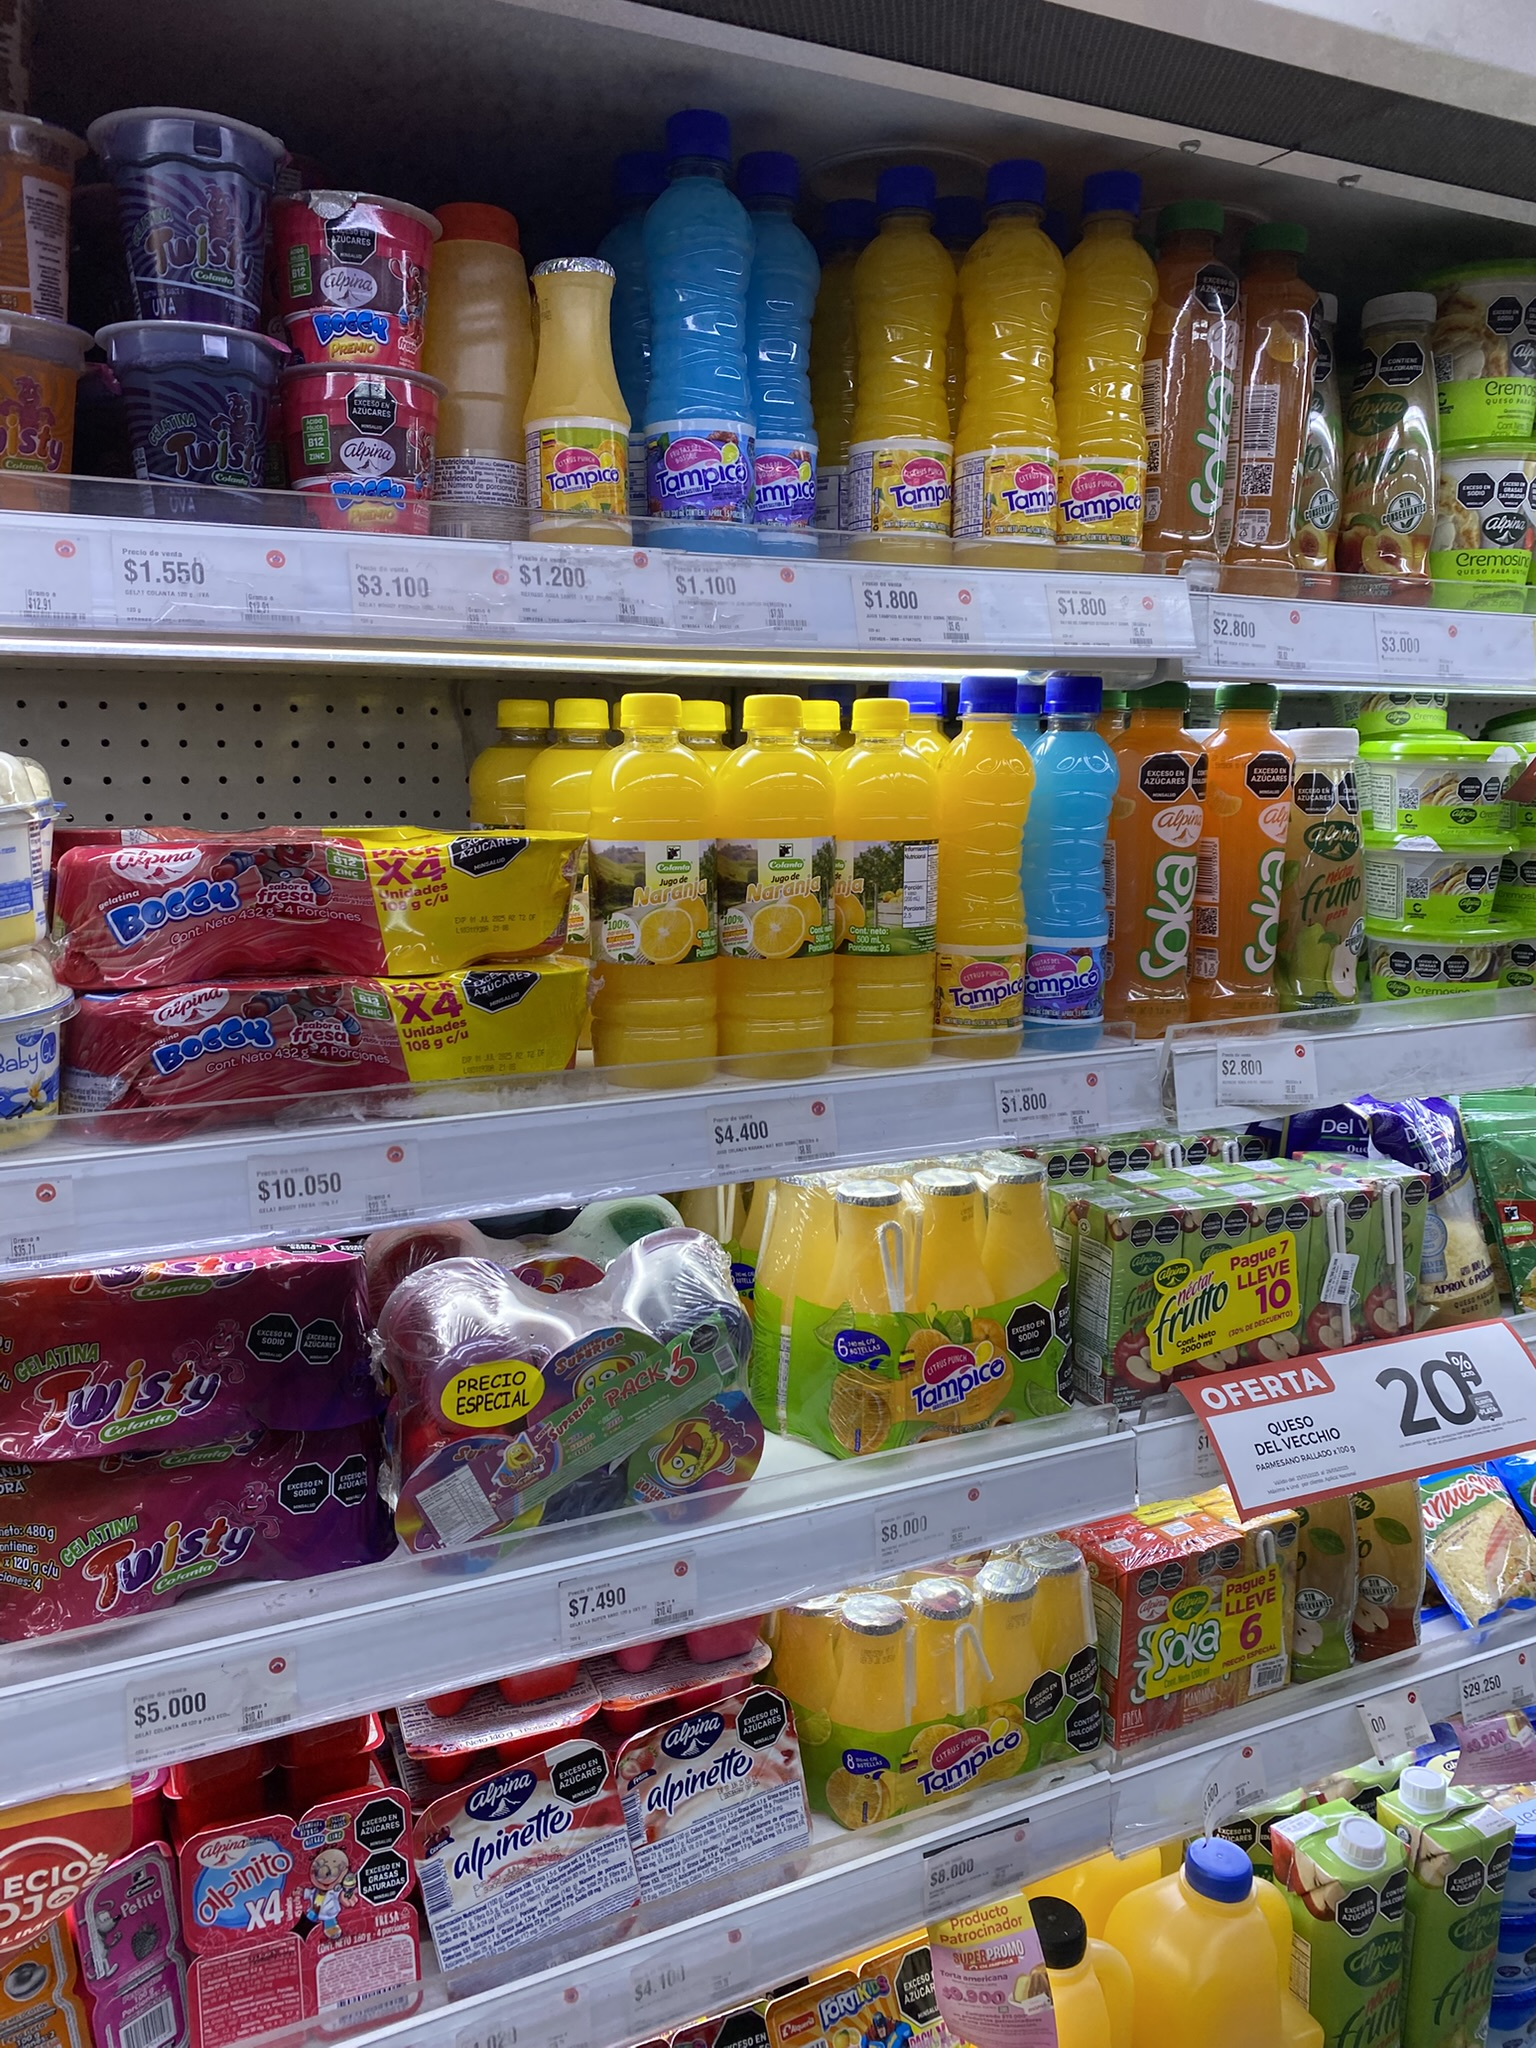Jugo de Naranja: (707, 684, 842, 1087), (599, 700, 713, 1084), (842, 697, 945, 1071)
